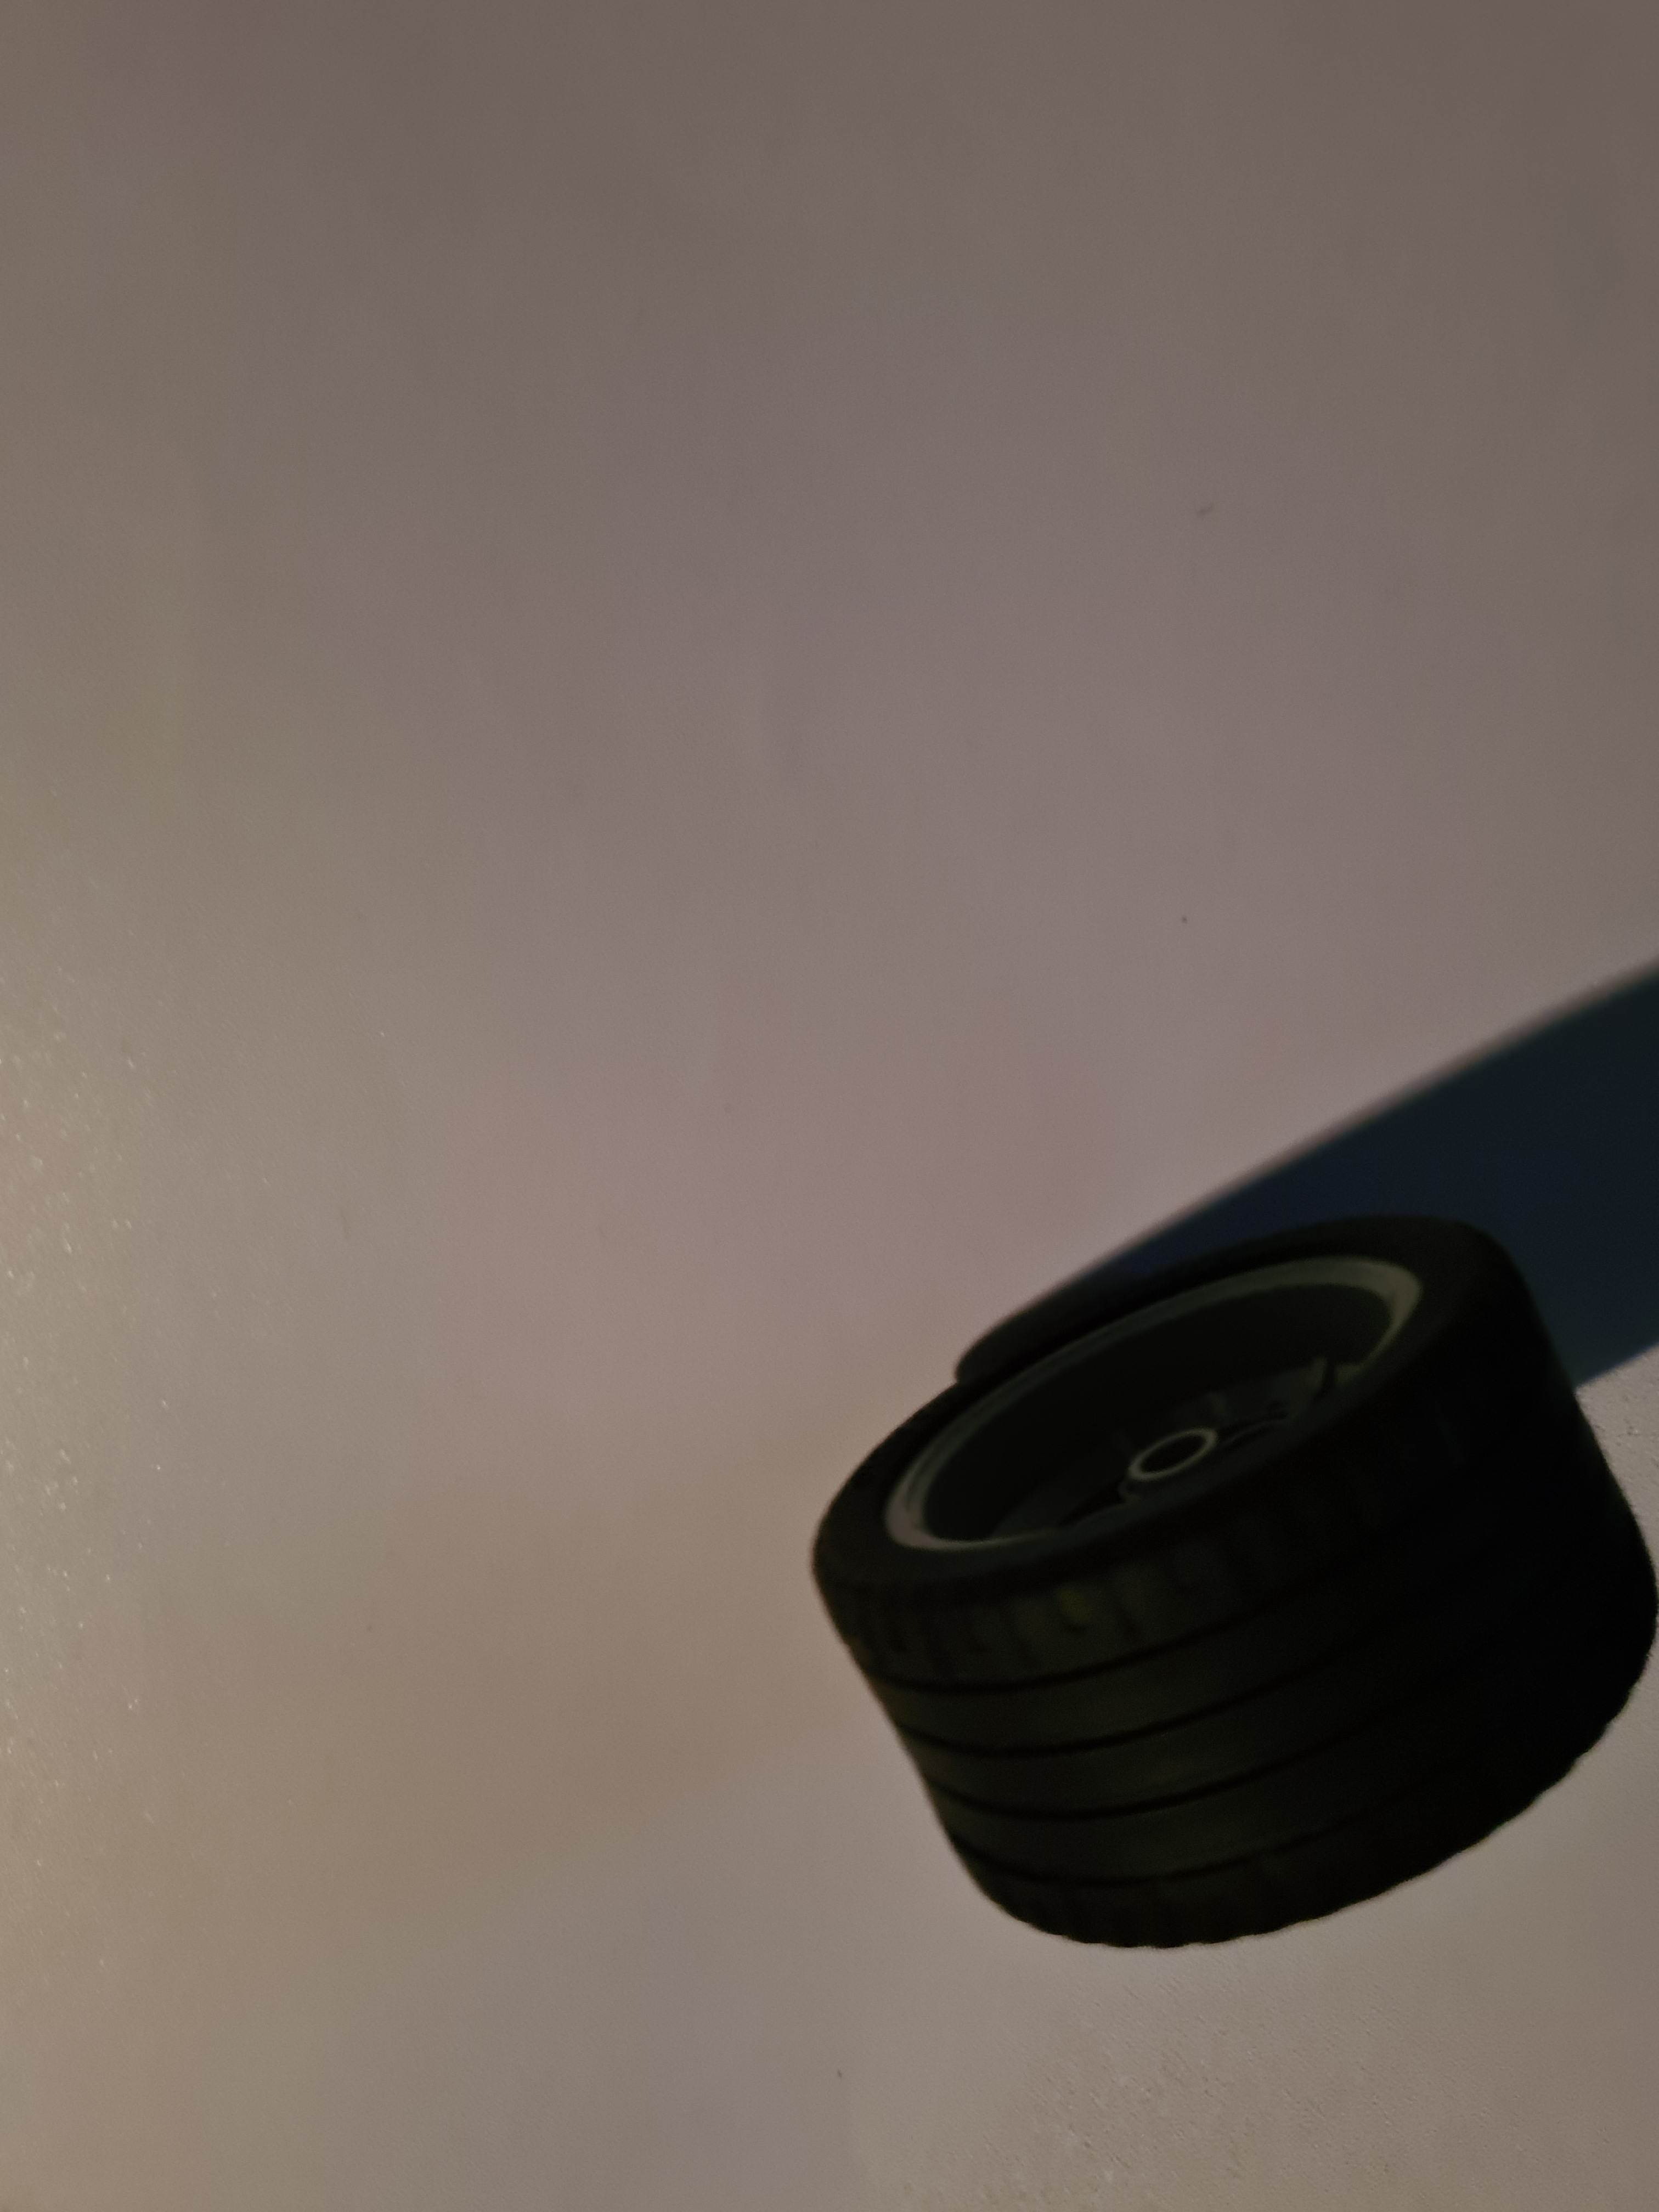Rad: (784, 1197, 1650, 1959)
